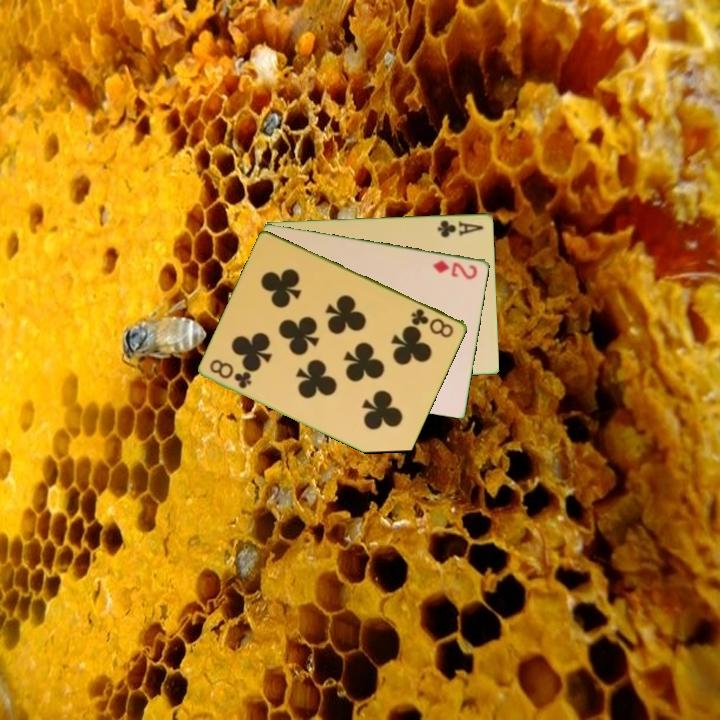2d: (430, 256, 480, 282)
8c: (408, 305, 457, 341), (206, 356, 255, 391)
Ac: (434, 216, 487, 240)
